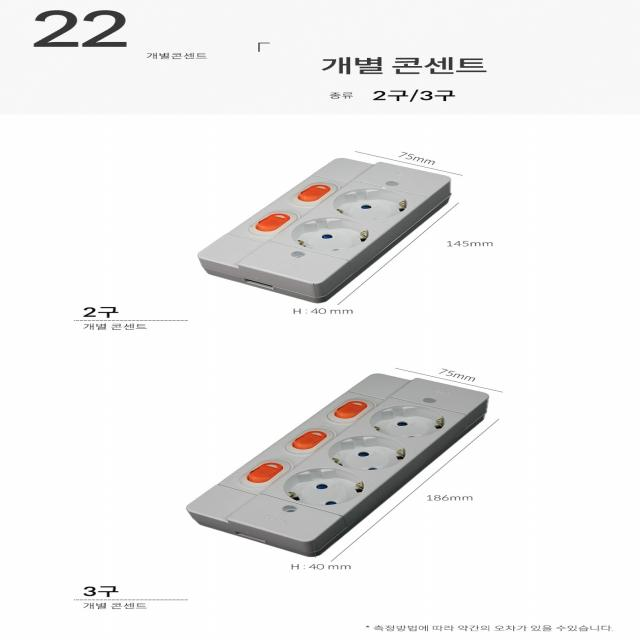typeb: (138, 369, 571, 579), (170, 137, 493, 312)
